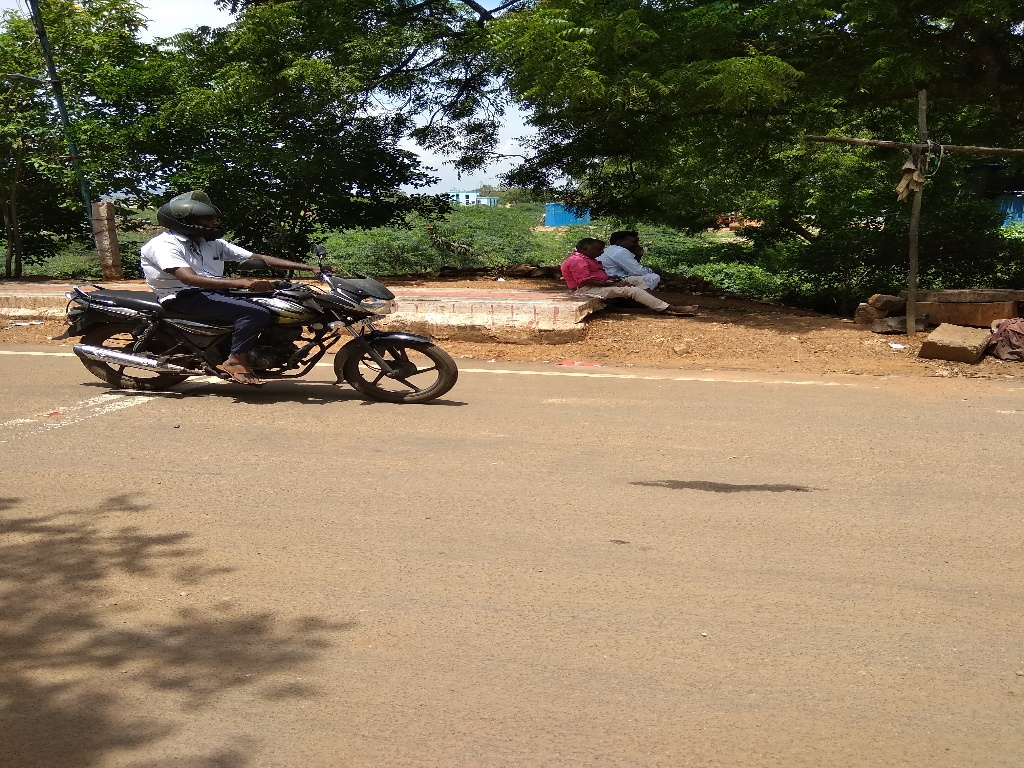biker: (40, 141, 484, 412)
helmet: (147, 174, 235, 251)
